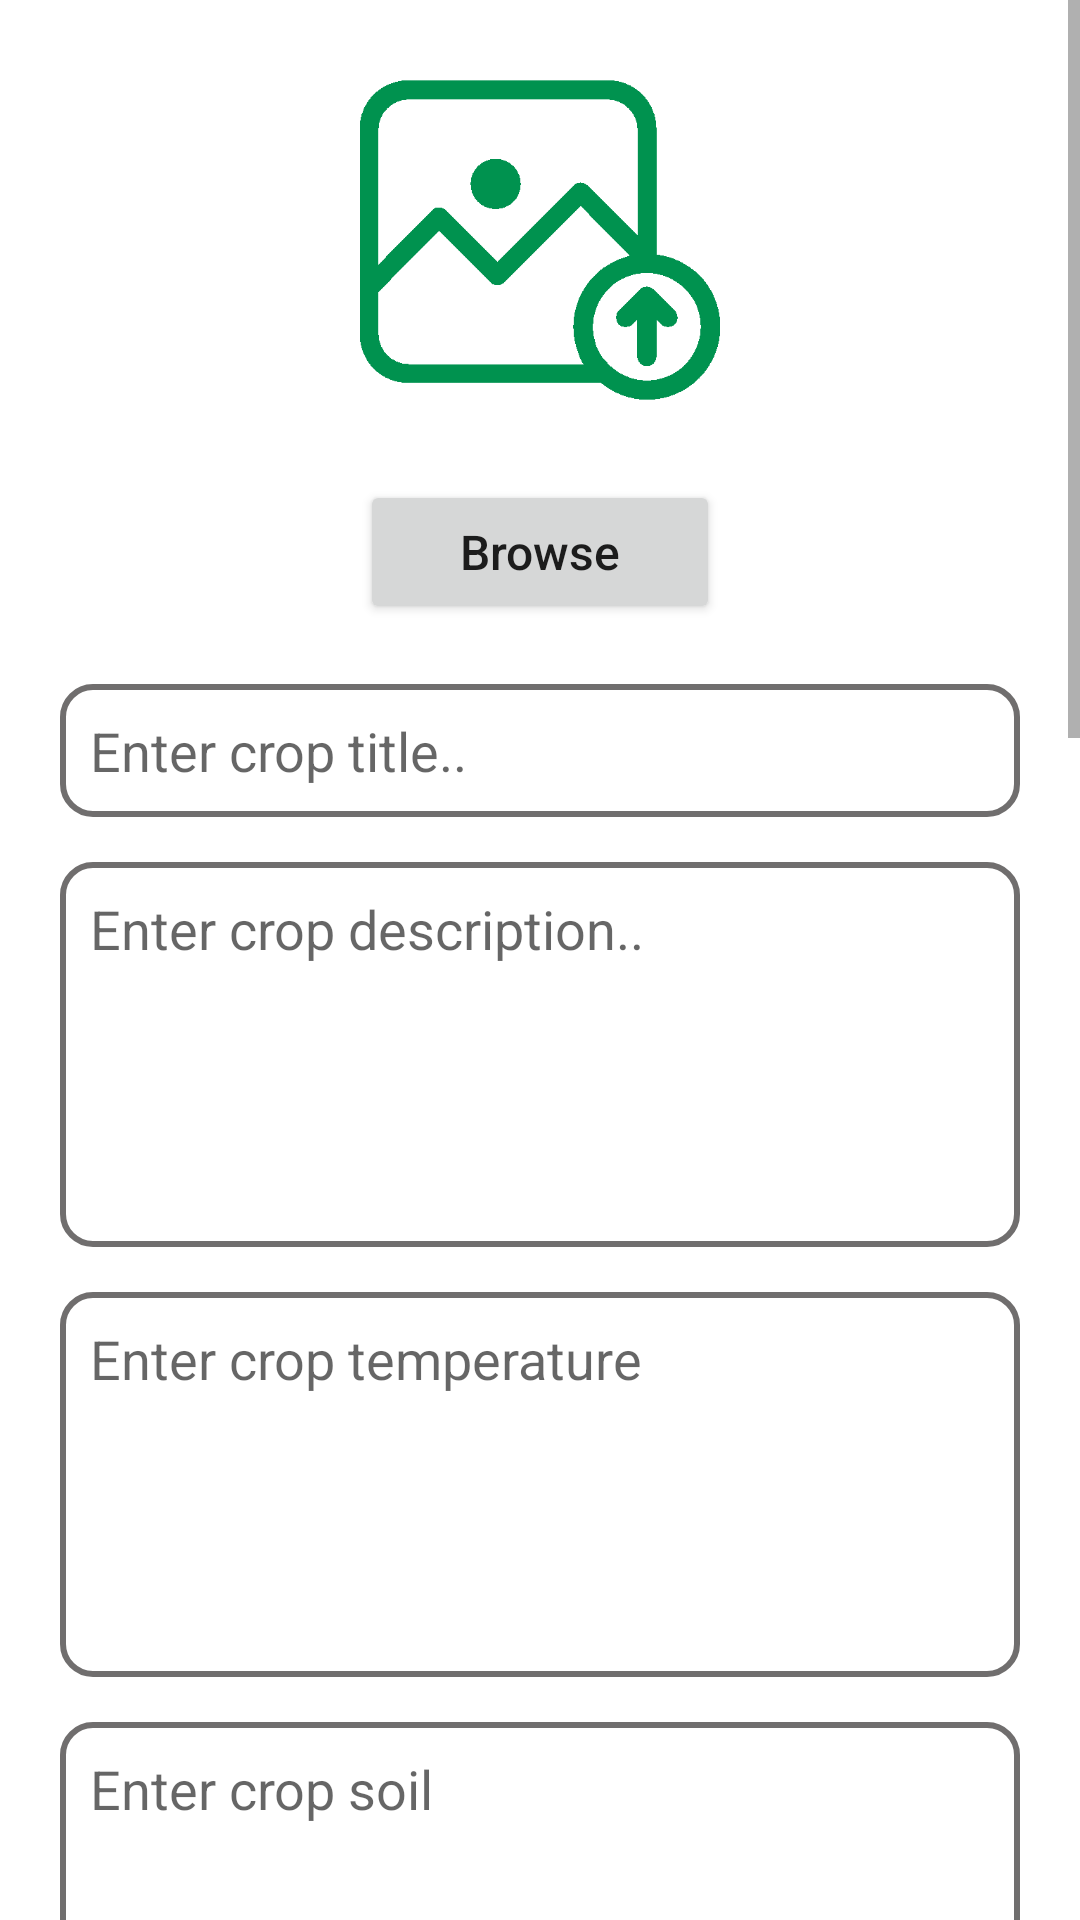

Named icons in this screenshot (1080px x 1920px) and their bounding boxes, BBox(x1, y1, x2, y2):
upload: BBox(360, 80, 720, 400)
